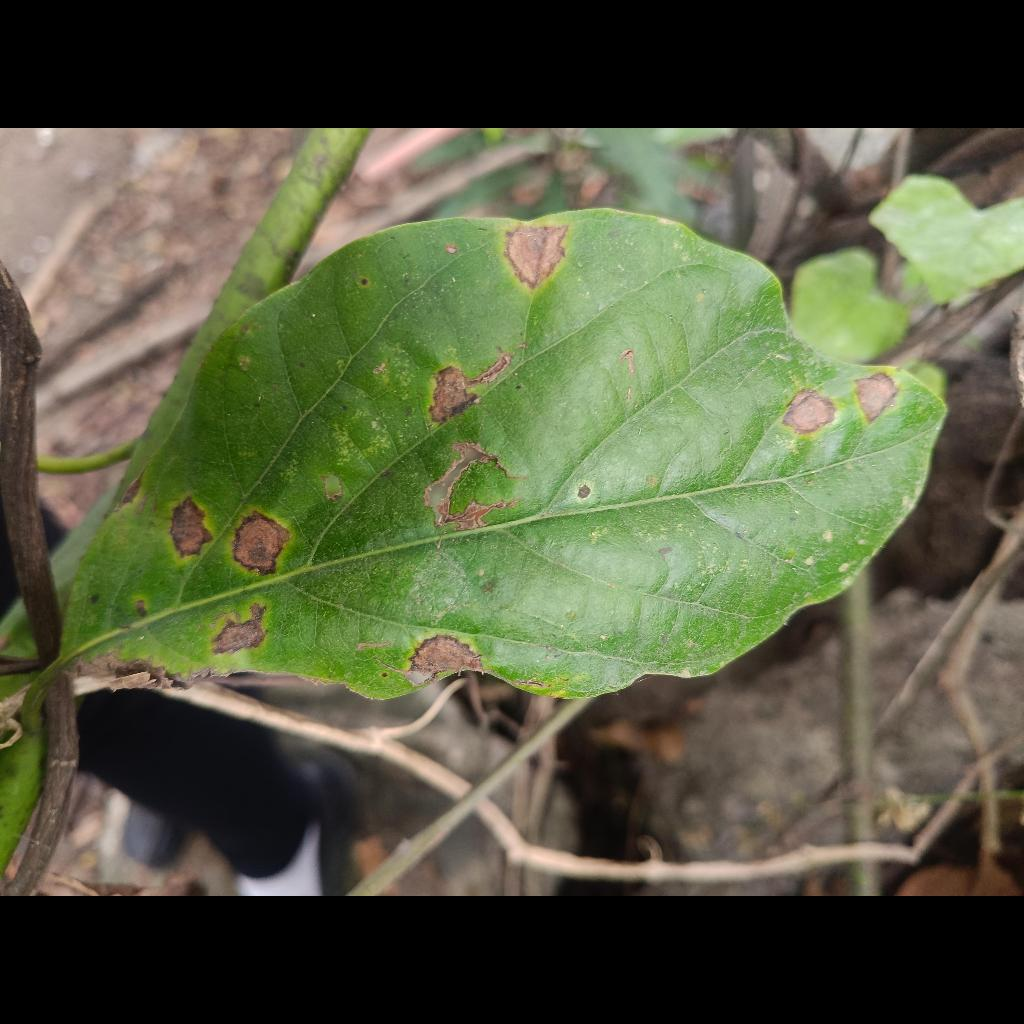Anthracnose: (15, 209, 944, 746)
